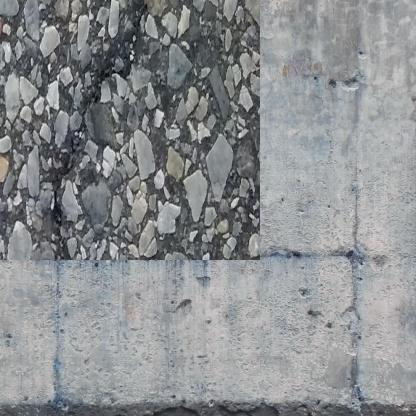Cracks: (45, 0, 143, 240)
